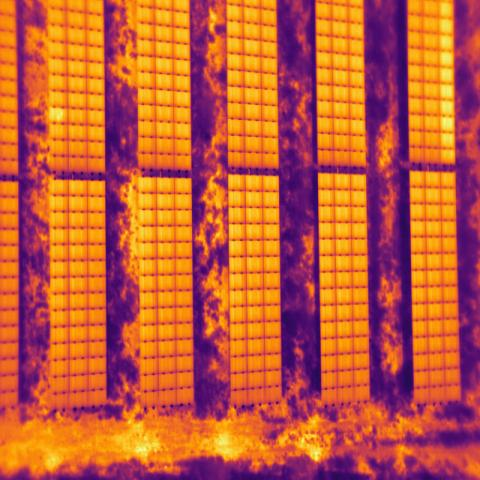fault: (440, 1, 455, 164), (49, 107, 67, 124)
